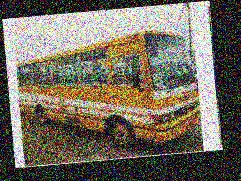bus: (15, 25, 202, 160)
